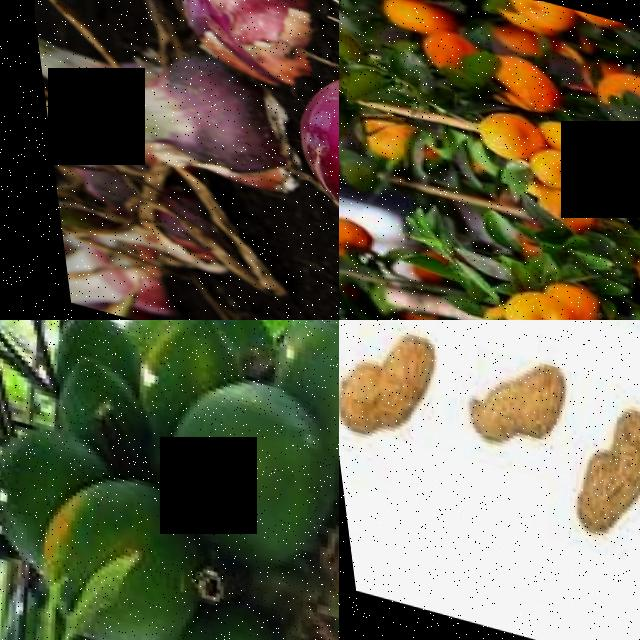orange: (482, 39, 566, 113), (467, 96, 545, 162), (485, 272, 580, 320), (519, 135, 587, 185), (527, 175, 595, 222), (618, 236, 640, 291)
pawpaw: (146, 356, 339, 578), (12, 450, 202, 640), (128, 584, 294, 640)
peanuts: (439, 326, 569, 457), (540, 380, 640, 550), (339, 320, 442, 456)
